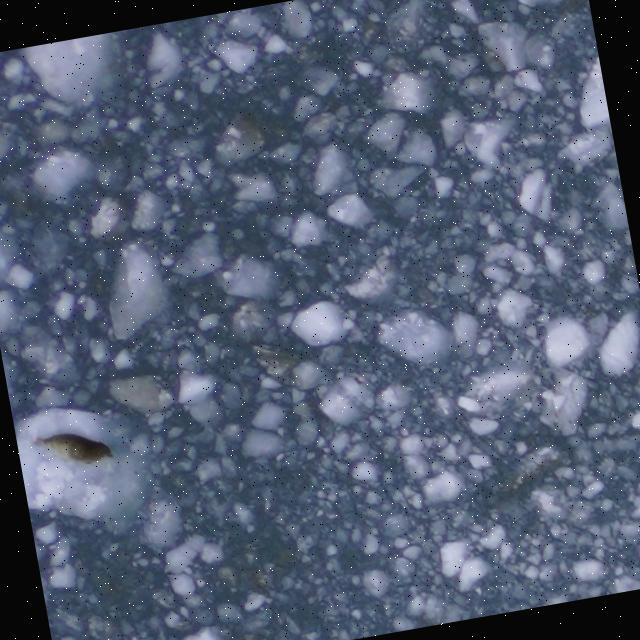seal: (29, 420, 118, 477)
